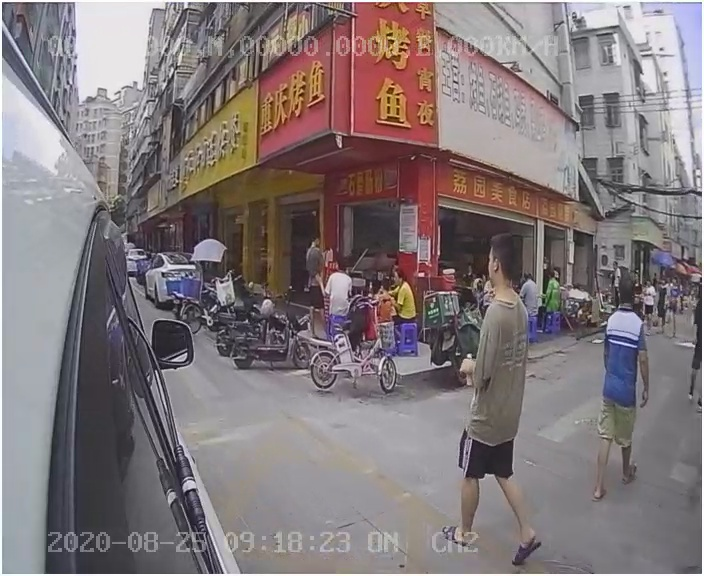person: (432, 232, 566, 565)
